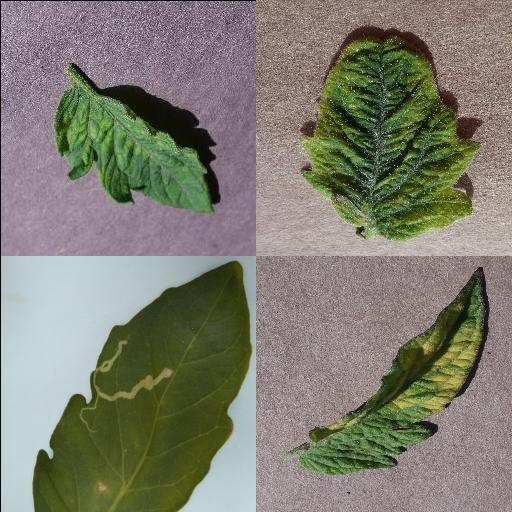Leaf Miner: (32, 261, 254, 512)
Leaf Mold: (299, 264, 487, 476)
Mosaic Virus: (53, 83, 215, 213)
Yellow Leaf Curl Virus: (299, 33, 481, 243)
